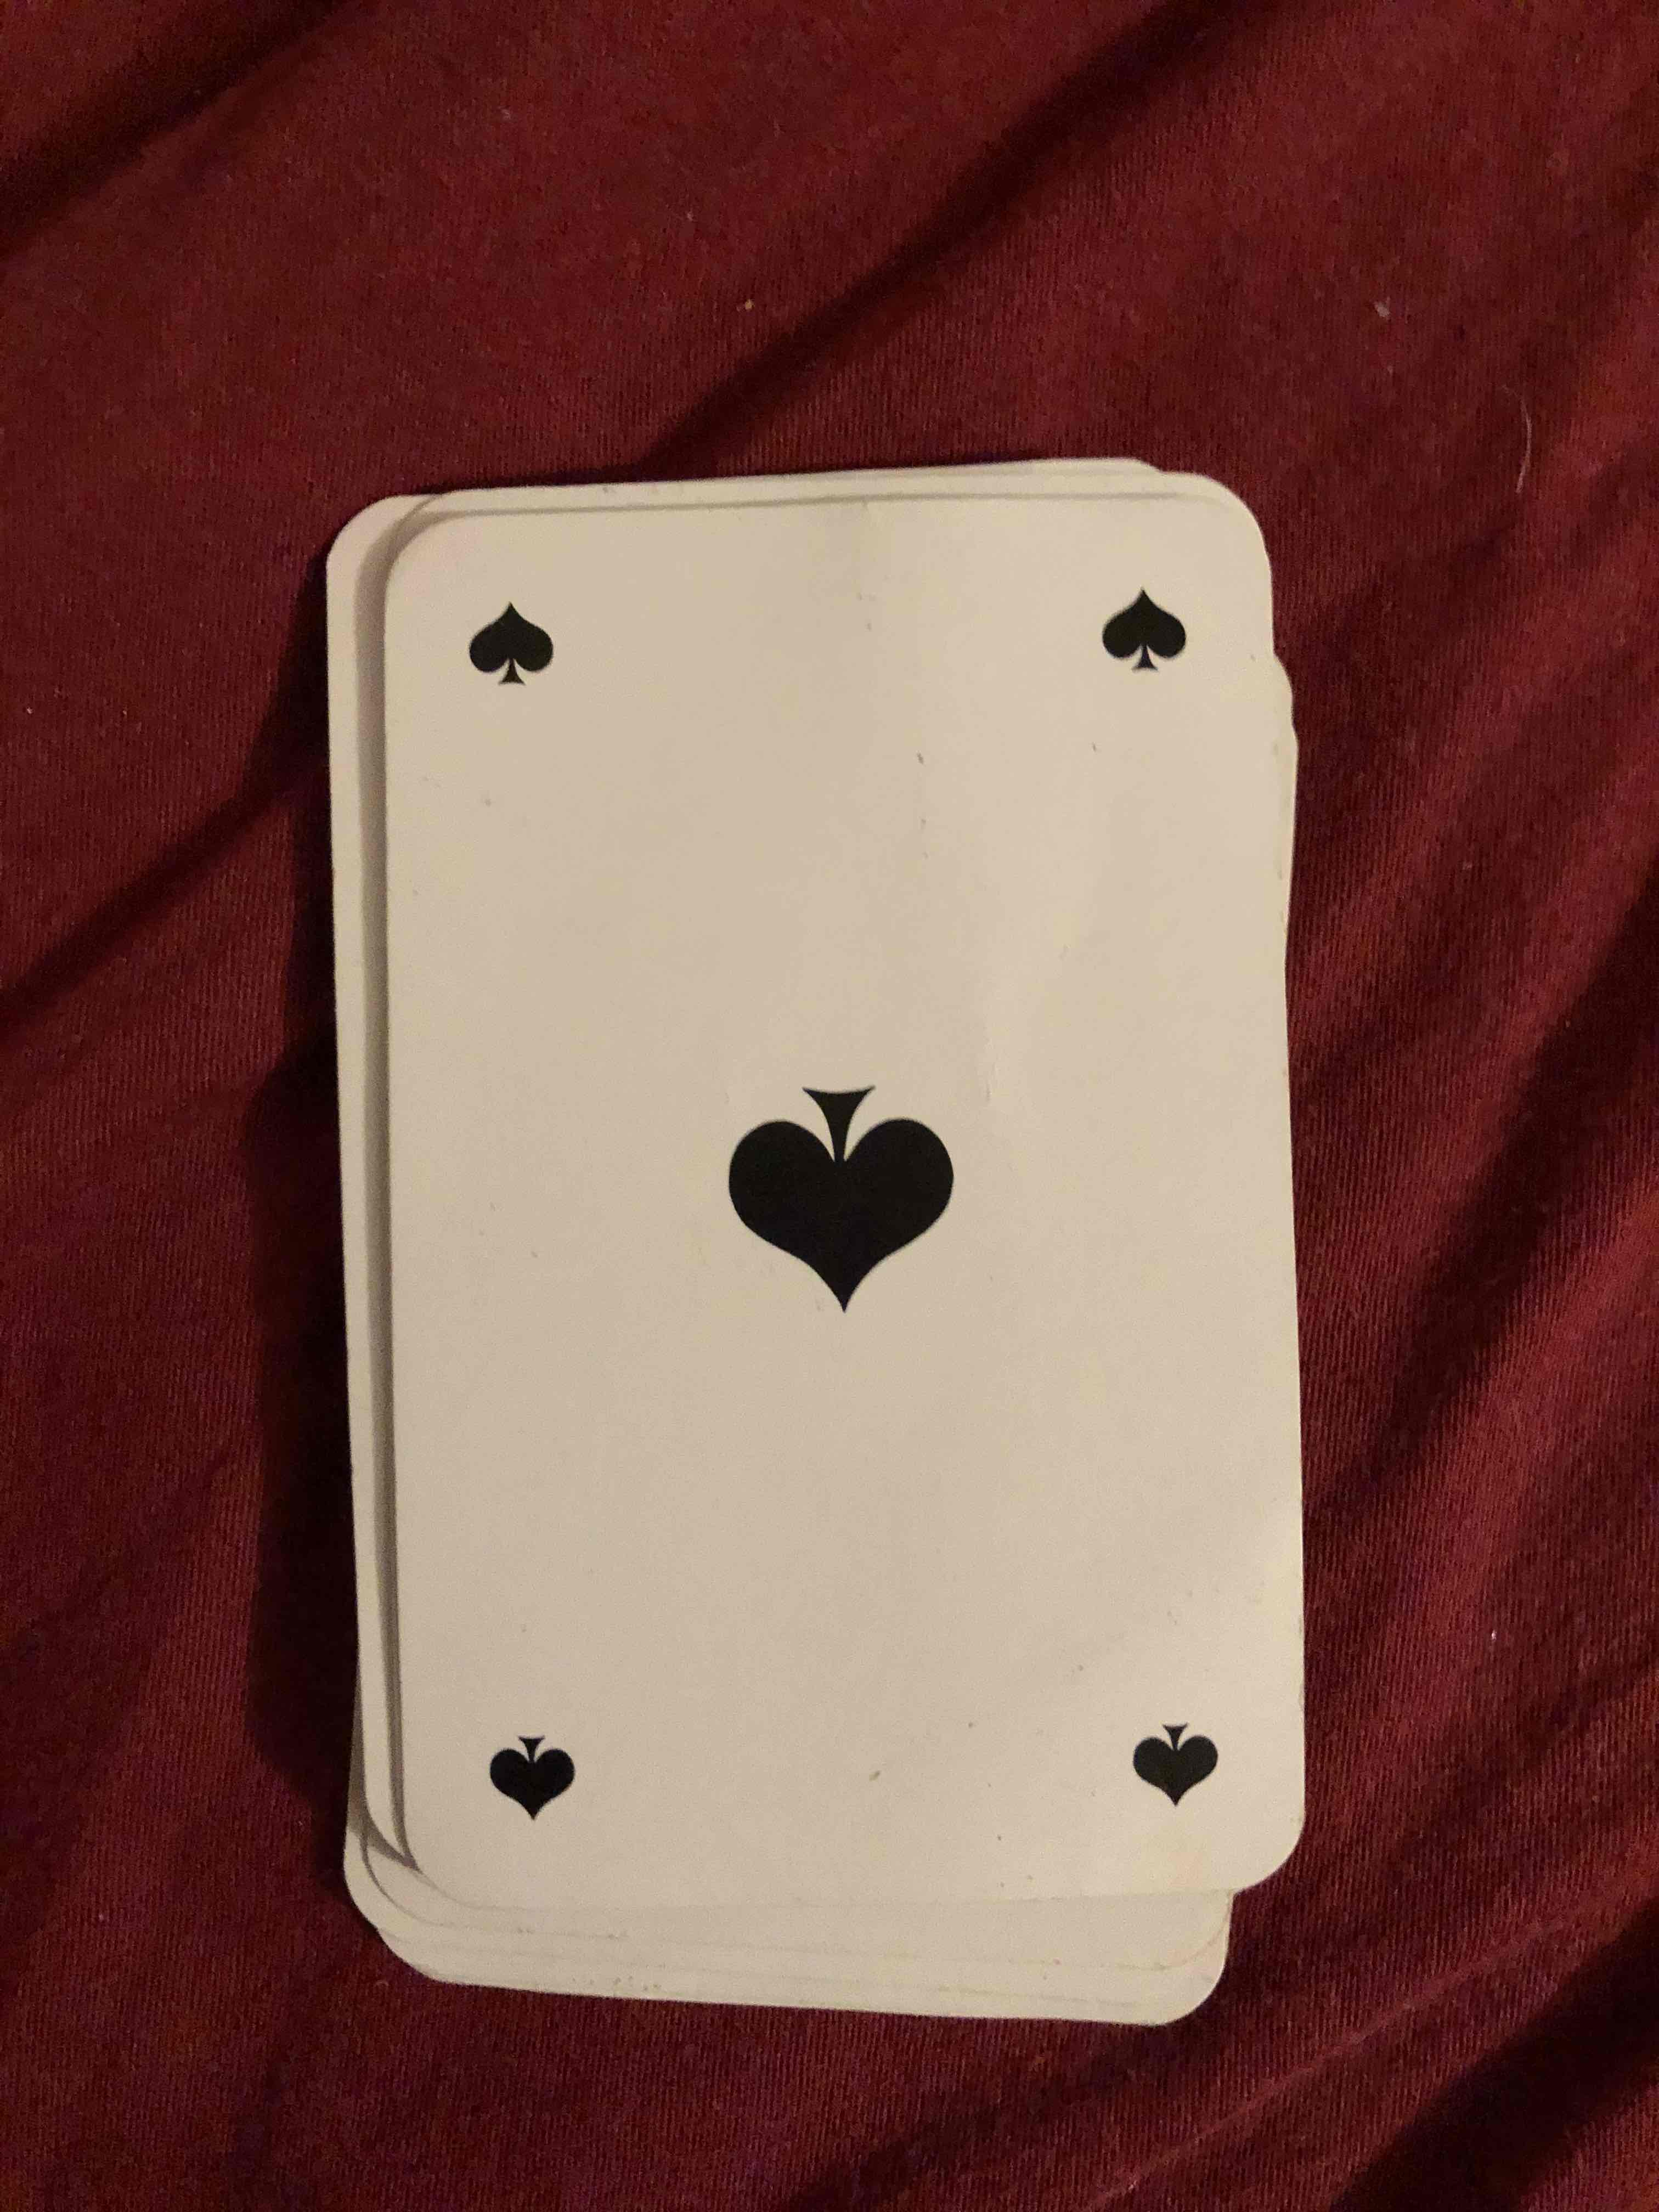spadesAce: (350, 519, 1298, 1858)
